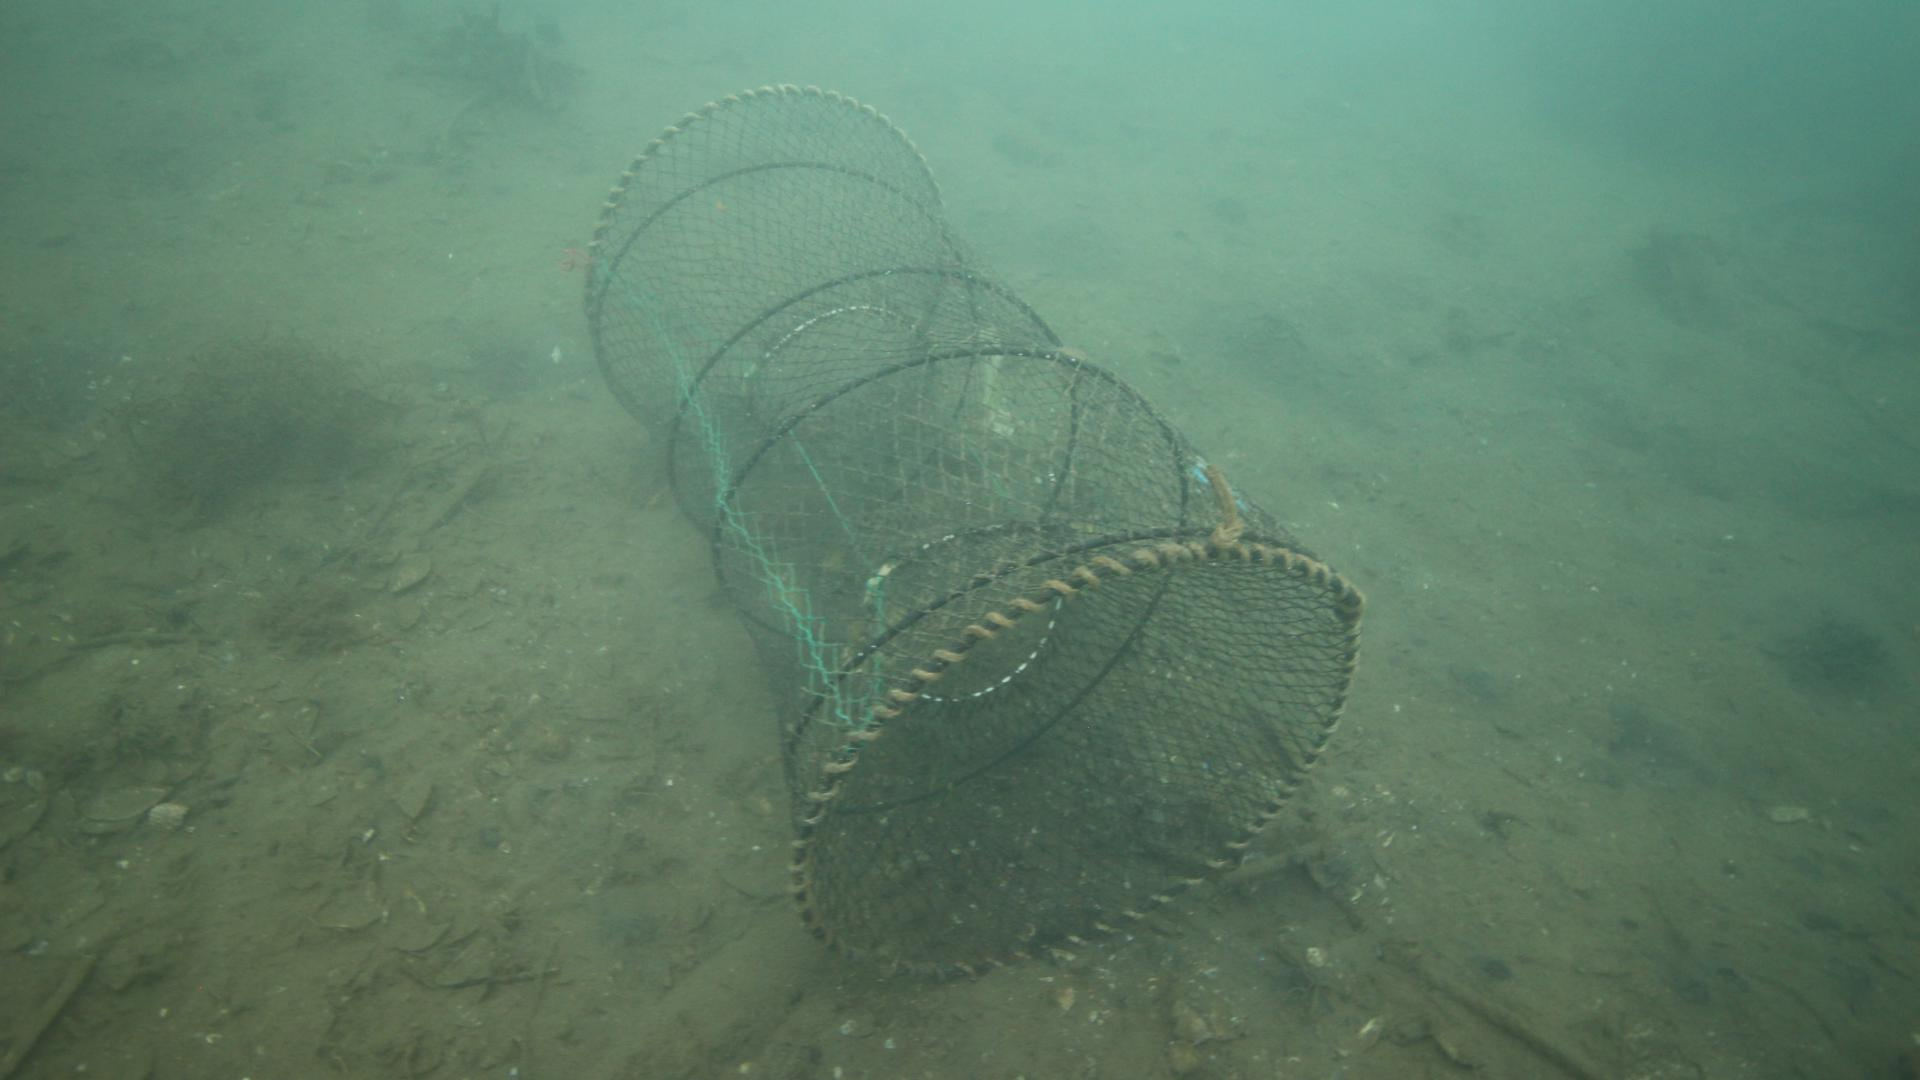spring fish trap: (582, 82, 1371, 989)
